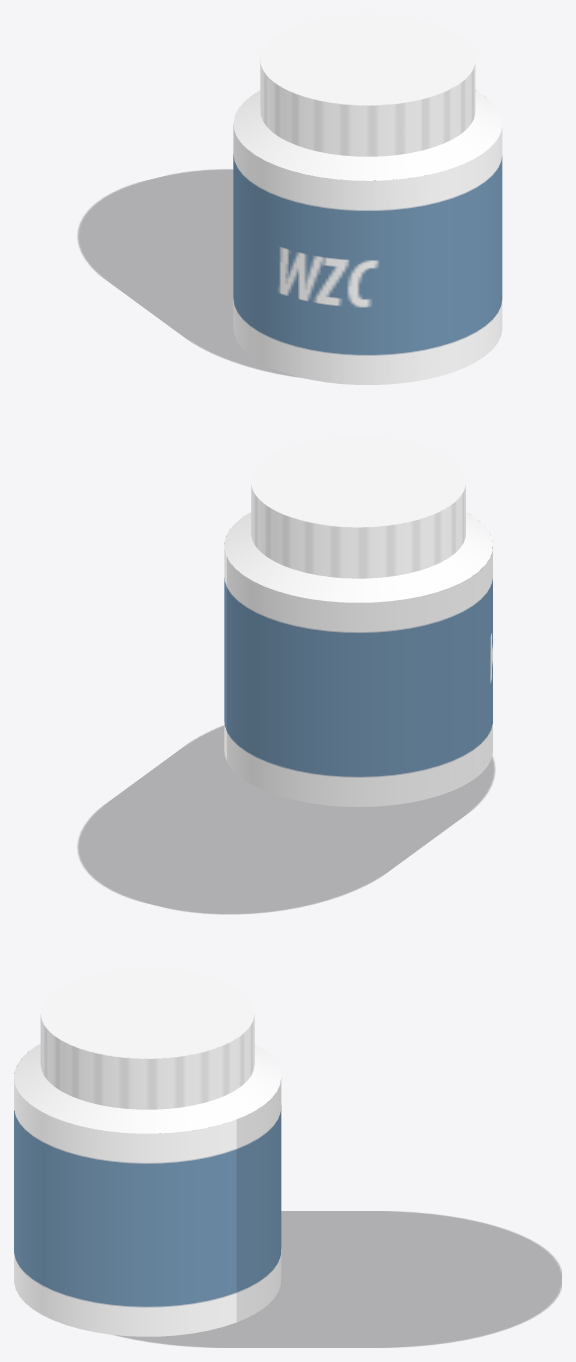
The model's file is block_29.glb.
3 views of the same model, one above another, from view 1: azimuth 30°, elevation 25°; view 2: azimuth 150°, elevation 25°; view 3: azimuth 270°, elevation 25° (orthographic).
Visible parts, largest first — view 1: hitObj, block; view 2: hitObj, block; view 3: hitObj, block.
Boxes of the visible parts, bbox=[...] form: hitObj: bbox=[233, 14, 502, 384]; block: bbox=[78, 169, 295, 376]; hitObj: bbox=[224, 436, 492, 806]; block: bbox=[78, 726, 494, 913]; hitObj: bbox=[14, 968, 281, 1336]; block: bbox=[115, 1211, 561, 1347].
Bounding box in the file's own units: 6.05 × 5.54 × 10.25.
Materials: 4 (3 with a texture image).
